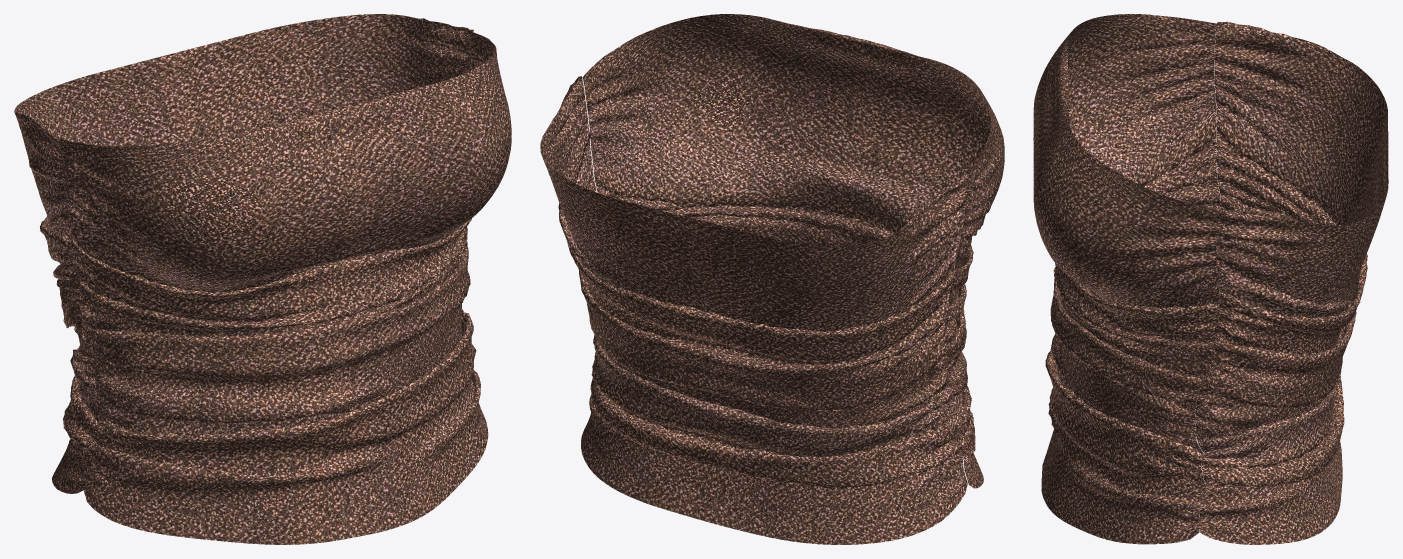
The model's file is fruncido_regular.glb.
3 renders of one model, left to right at view 1: azimuth 30°, elevation 25°; view 2: azimuth 150°, elevation 25°; view 3: azimuth 270°, elevation 25°, orthographic. The views are drawn at different scales.
Parts seen in each view (by area): view 1: Cloth; view 2: Cloth; view 3: Cloth.
Part boxes in pixels (box(x1,y1,x2,y2)): Cloth: box(14, 14, 511, 544); Cloth: box(540, 14, 1004, 544); Cloth: box(1033, 14, 1388, 544).
Bounding box in the file's own units: 0.2988 × 0.2843 × 0.2293.
Materials: 1 (1 with a texture image).
